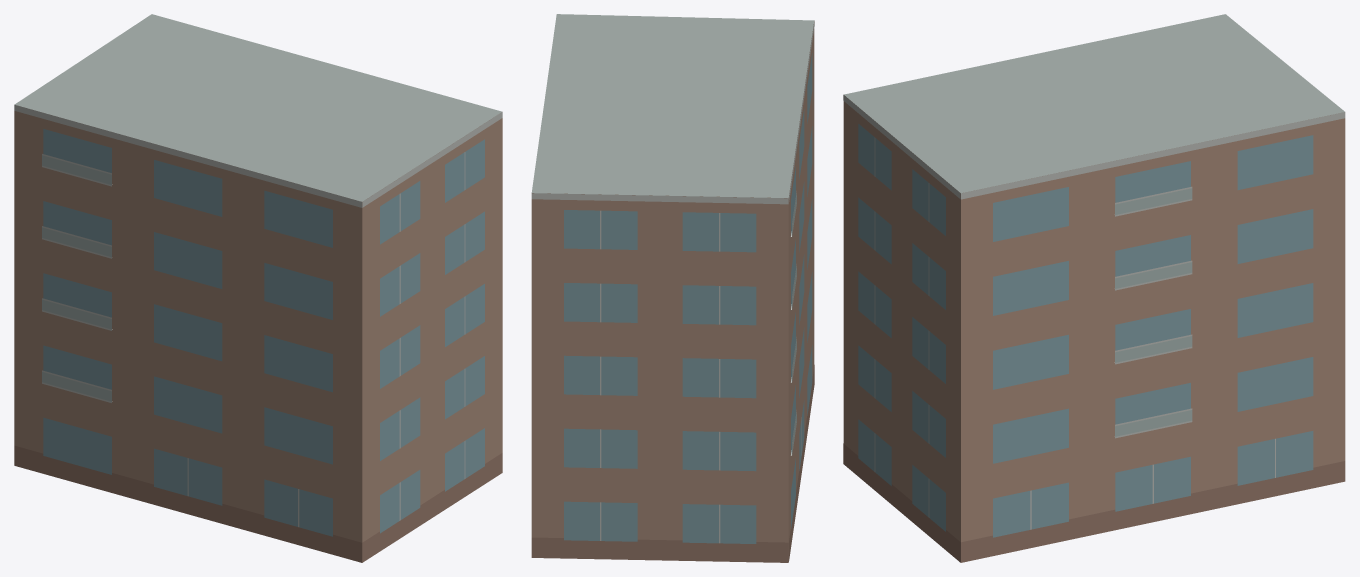
The model's file is survey-upis-32892888.glb.
3 views of the same model, side by side, from view 1: azimuth 30°, elevation 25°; view 2: azimuth 150°, elevation 25°; view 3: azimuth 270°, elevation 25° (orthographic). The views are drawn at different scales.
Visible parts, largest first — view 1: survey-upis-32892888.tmp; view 2: survey-upis-32892888.tmp; view 3: survey-upis-32892888.tmp.
Part boxes in pixels (x1,y1,x2,y2): survey-upis-32892888.tmp: [14, 14, 502, 562]; survey-upis-32892888.tmp: [531, 14, 814, 562]; survey-upis-32892888.tmp: [843, 14, 1345, 562].
Size of the model in its own units: 14.99 by 14.4 by 17.73.
